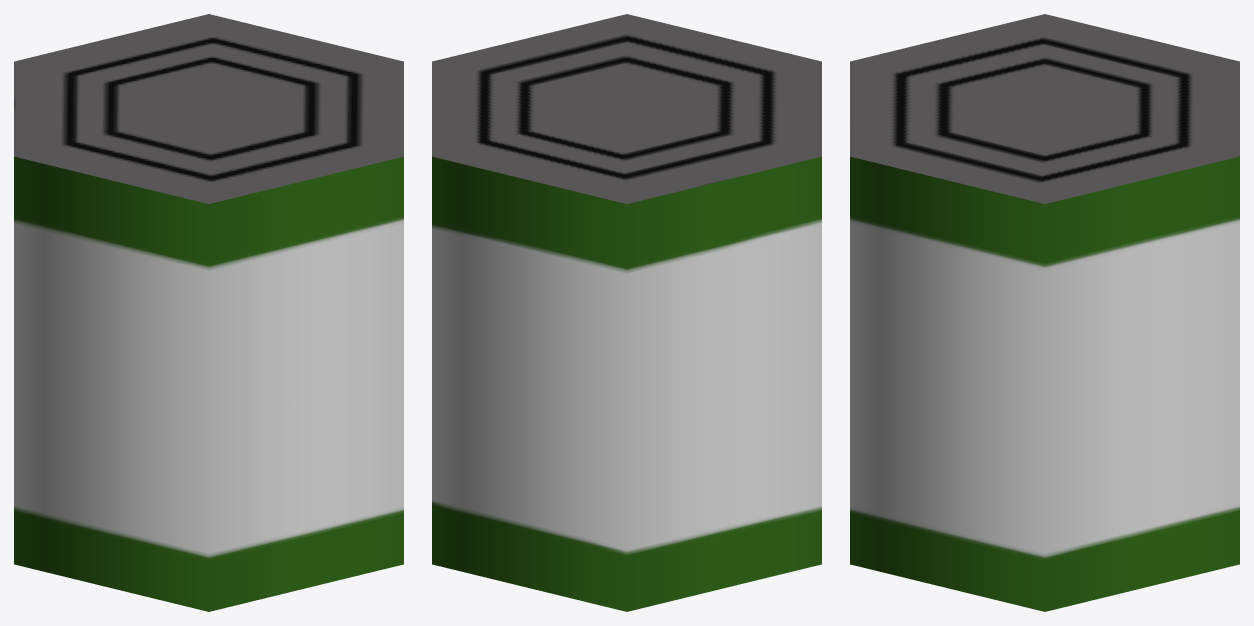
Rendered from Trash_Can02.fbx.
3 renders of one model, left to right at view 1: azimuth 30°, elevation 25°; view 2: azimuth 150°, elevation 25°; view 3: azimuth 270°, elevation 25°, orthographic.
Visible parts, largest first — view 1: Can03; view 2: Can03; view 3: Can03.
Part boxes in pixels (bbox=[...]): Can03: bbox=[14, 14, 403, 611]; Can03: bbox=[432, 14, 821, 611]; Can03: bbox=[850, 14, 1239, 611].
Bounding box in the file's own units: 2 × 2 × 1.73.
